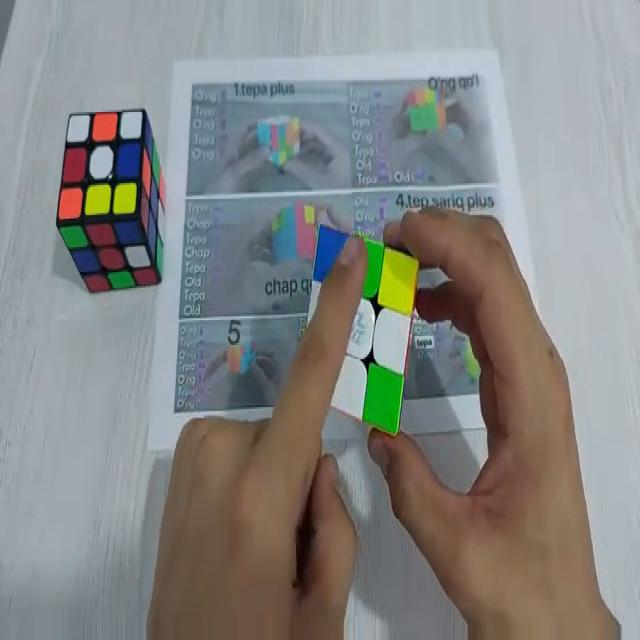Rub: (297, 225, 420, 430), (60, 105, 161, 289)
